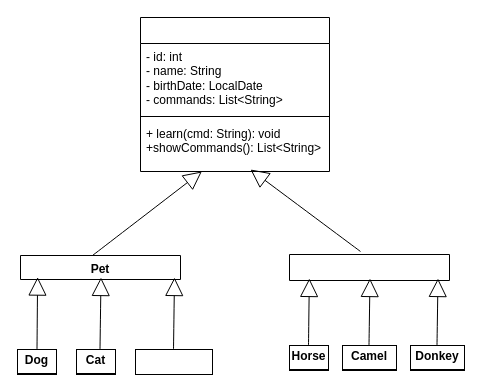
Some shapes in this 482 by 392 pixel diagram are drawn without their labels. The shapes that lost their labels are listed below. From the top down, each one's box as (x1, y1, x2, y2) in pixels, then its label:
(140, 16, 330, 172): Animal
(288, 254, 450, 280): PackAnimal
(134, 348, 212, 374): Hamster
